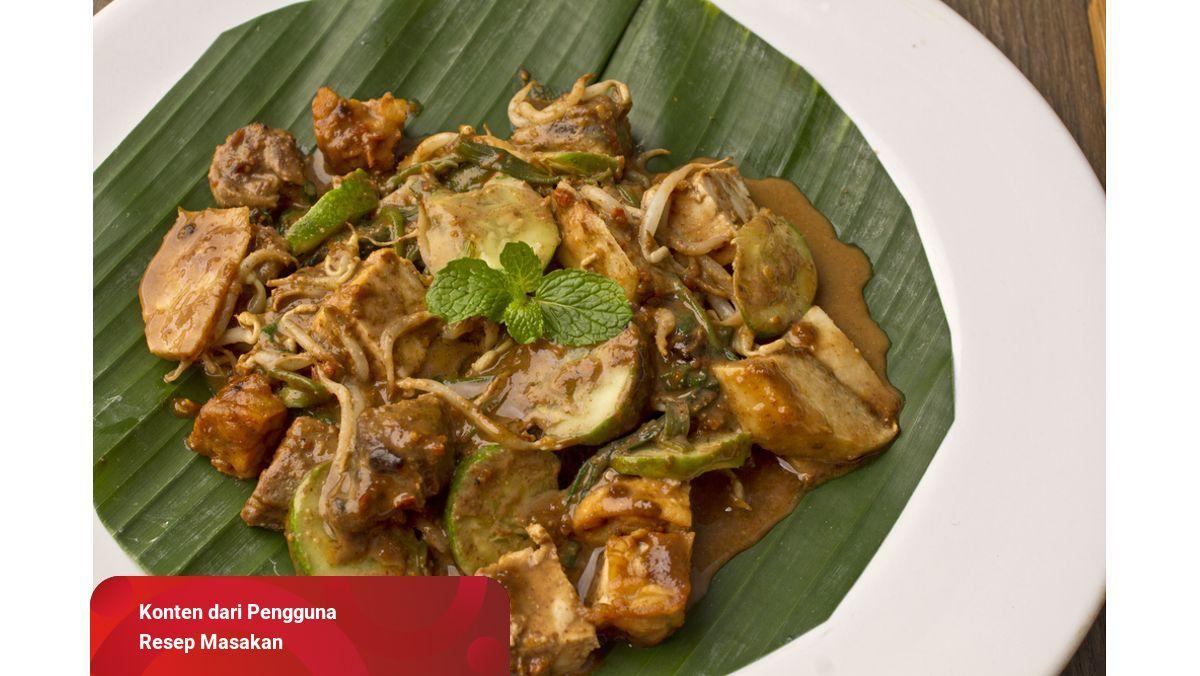rujak_cingur: (137, 75, 903, 577)
